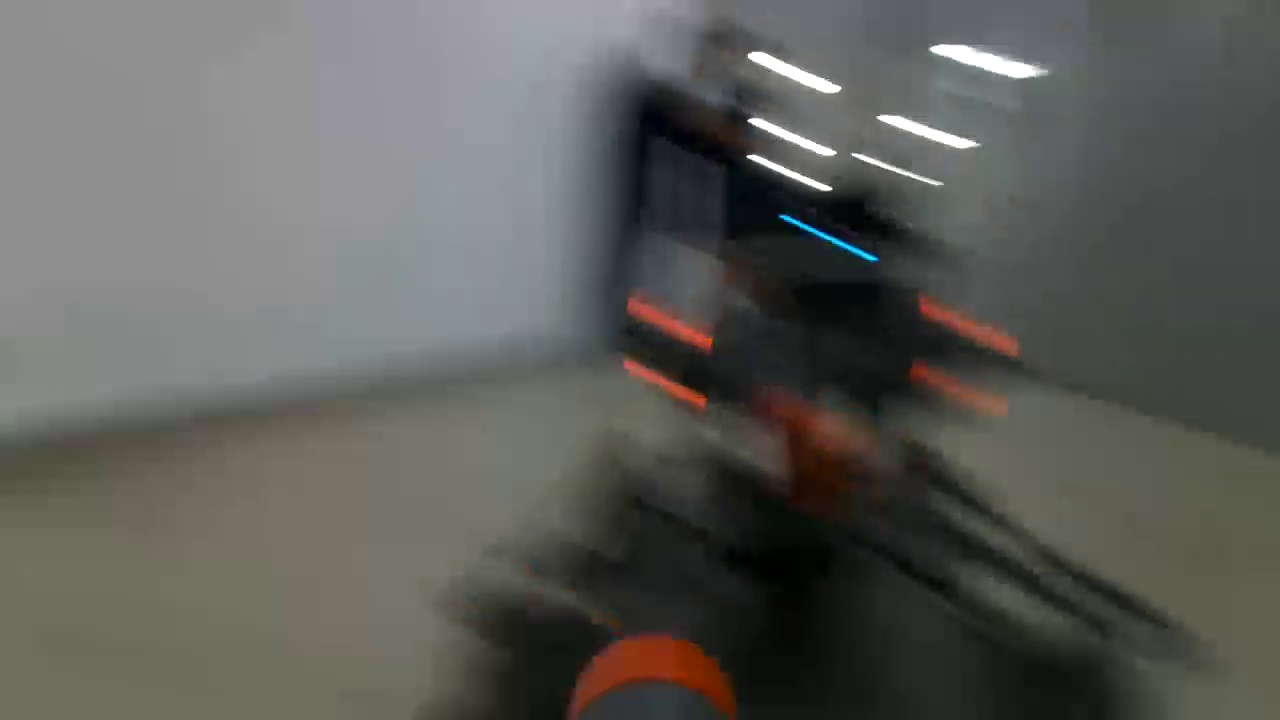robot: (469, 166, 1148, 720)
